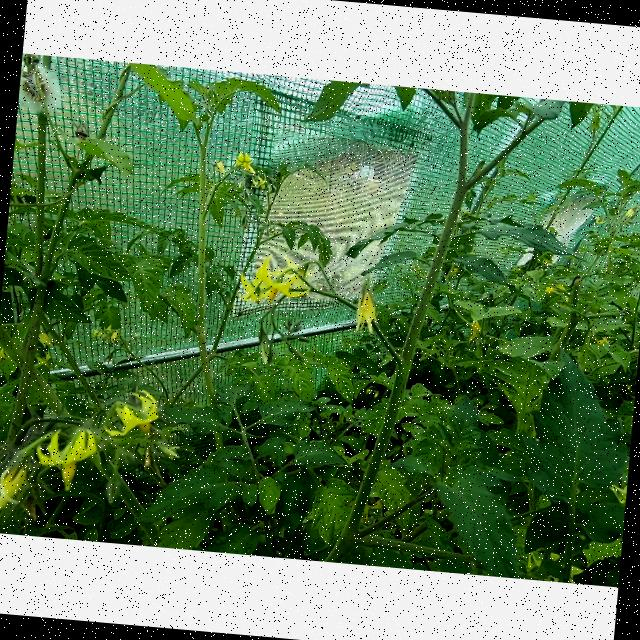Flowers: (31, 422, 99, 493), (236, 252, 317, 306), (107, 388, 169, 446), (348, 275, 382, 337), (0, 465, 29, 516), (90, 324, 126, 344), (234, 149, 257, 175), (32, 350, 52, 370), (34, 330, 56, 348), (468, 320, 482, 344), (250, 172, 268, 190), (594, 334, 614, 350), (210, 160, 228, 176), (593, 214, 605, 226), (625, 206, 638, 217), (0, 347, 8, 361), (544, 285, 555, 295)
